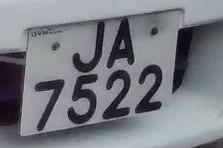2: (133, 60, 168, 117), (102, 66, 135, 121)
5: (66, 71, 101, 125)
7: (30, 73, 67, 130)
A: (105, 14, 137, 72)
J: (66, 14, 108, 75)
